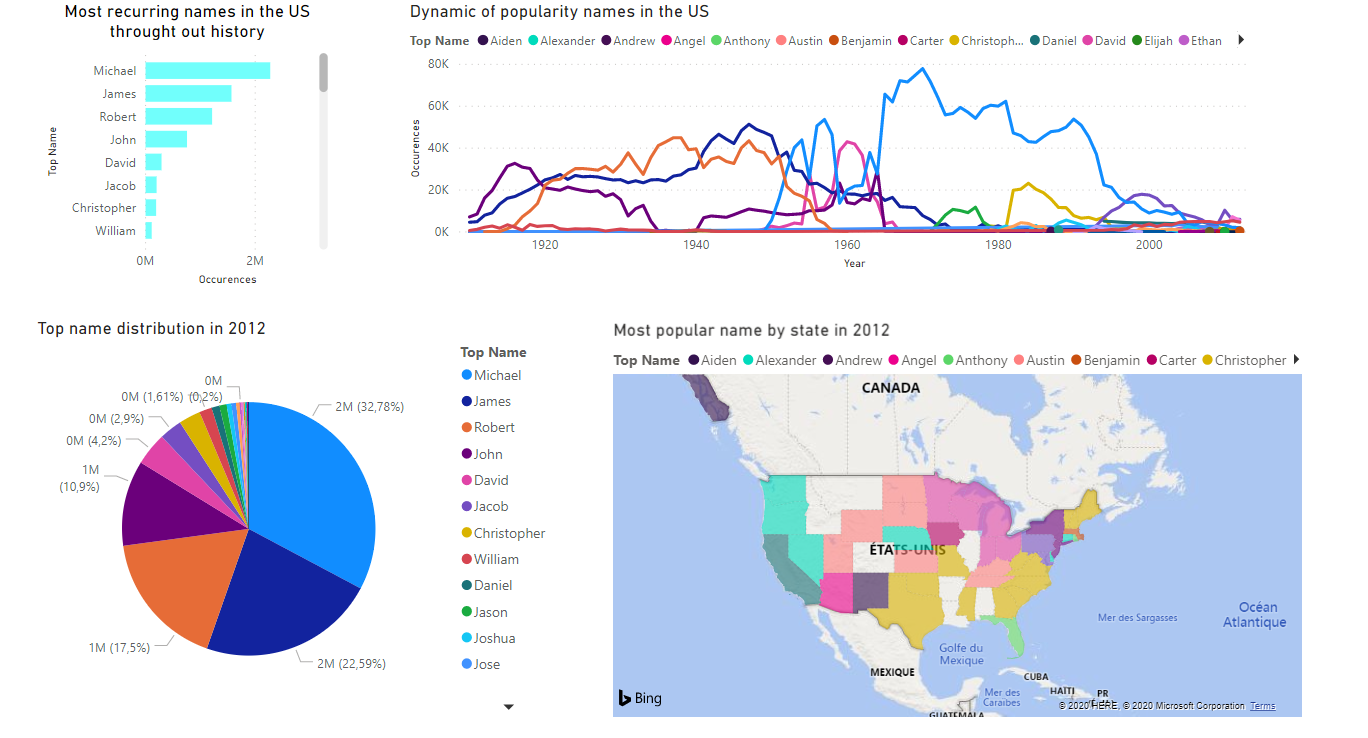

Layout of this report page (visuals, bound fields, positions):
{"tool":"powerbi","page":{"name":"Page 1","canvas":[1280,720],"ordinal":0},"visuals":[{"type":"barChart","title":"Most recurring names in the US throught out history","fields":{"Category":["TopBabyNamesbyState.Top Name"],"Y":["TopBabyNamesbyState.Occurences"]},"box":[10,0,280,280],"z":0},{"type":"lineChart","title":"Dynamic of popularity names in the US","fields":{"Category":["TopBabyNamesbyState.Year"],"Y":["TopBabyNamesbyState.Occurences"],"Series":["TopBabyNamesbyState.Top Name"]},"box":[359.1,0,822.3,264.5],"z":1},{"type":"pieChart","title":"Top name distribution in 2012","fields":{"Category":["TopBabyNamesbyState.Top Name"],"Y":["TopBabyNamesbyState.Occurences"]},"box":[0,305.6,508.4,387.8],"z":2},{"type":"filledMap","title":"Most popular name by state in 2012","fields":{"Category":["TopBabyNamesbyState.State"],"Series":["TopBabyNamesbyState.Top Name"]},"box":[555,307,672.9,387.8],"z":3}]}

Visuals, with their boxes on the page's 1280x720 design canvas (x1, y1, x2, y2). These are canvas units, not pixel positions in the 1368x738 screenshot, which may show the page scaled, cropped or inside an application window:
"Most recurring names in the US throught out history" barChart: left=10, top=0, right=290, bottom=280
"Dynamic of popularity names in the US" lineChart: left=359, top=0, right=1181, bottom=264
"Top name distribution in 2012" pieChart: left=0, top=306, right=508, bottom=693
"Most popular name by state in 2012" filledMap: left=555, top=307, right=1228, bottom=695
